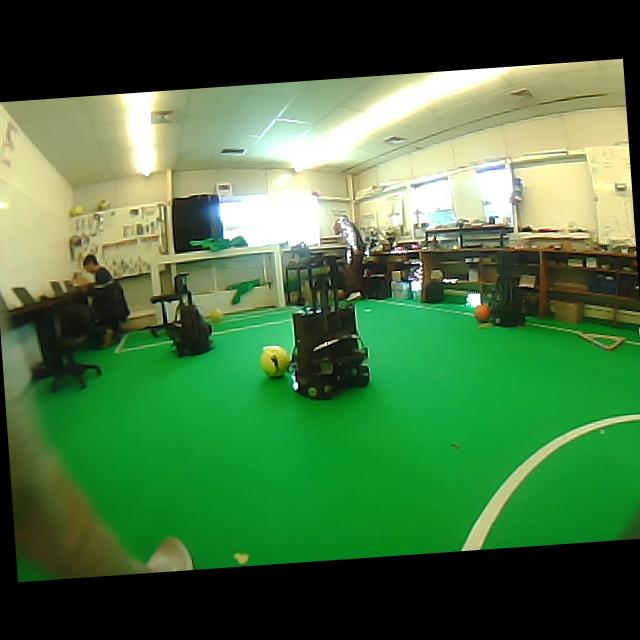ball: (260, 345, 290, 376), (474, 303, 489, 321), (208, 309, 223, 322), (70, 204, 84, 215), (97, 199, 110, 209)
goal: (273, 244, 285, 306)
robot: (292, 305, 369, 398), (166, 273, 210, 355), (491, 253, 523, 326)
